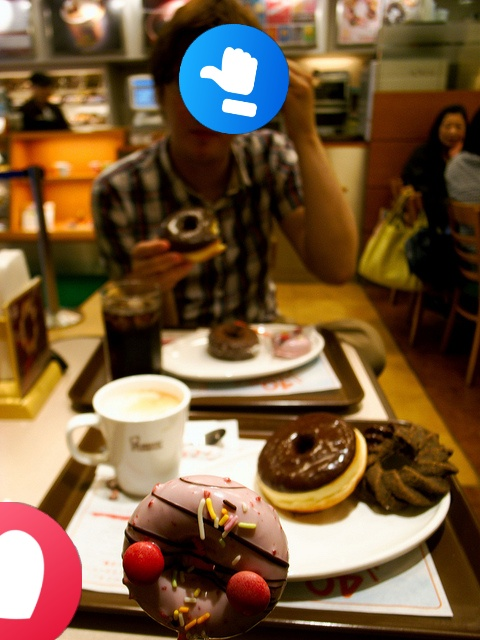like: (179, 24, 289, 134)
love: (0, 502, 82, 640)
